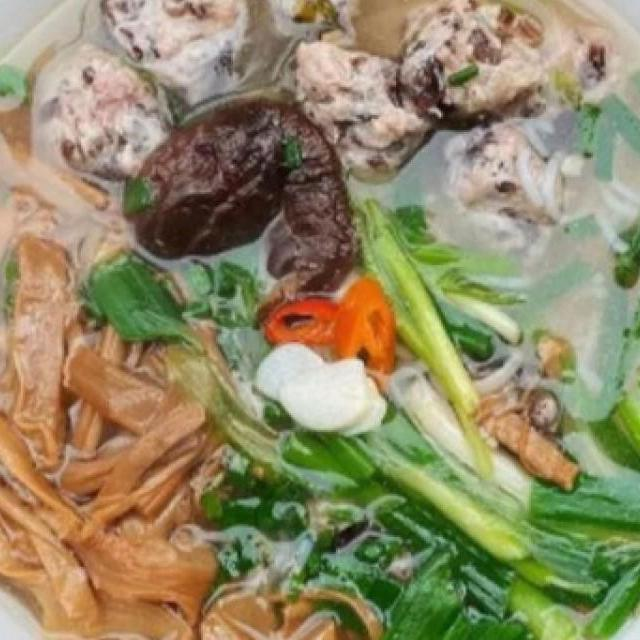vien moc: (22, 29, 180, 188), (288, 31, 446, 187), (382, 0, 560, 136), (431, 123, 568, 271), (95, 0, 259, 109), (244, 0, 378, 48)
